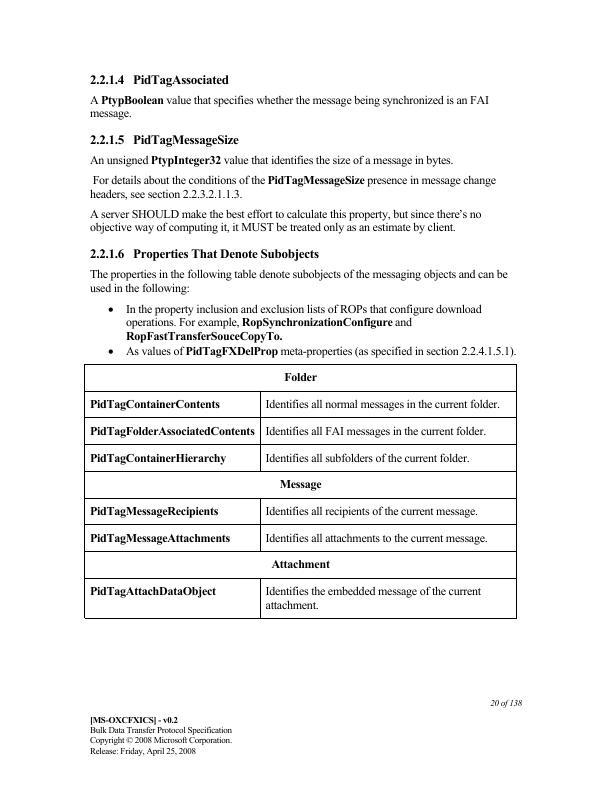table: (82, 362, 520, 622)
text: (123, 302, 484, 344), (86, 265, 509, 295), (86, 93, 493, 123), (85, 208, 486, 237), (89, 173, 502, 200), (86, 711, 237, 762), (121, 345, 521, 361), (87, 154, 454, 168), (87, 246, 321, 264), (84, 70, 230, 87), (89, 132, 242, 148), (485, 694, 526, 713)
